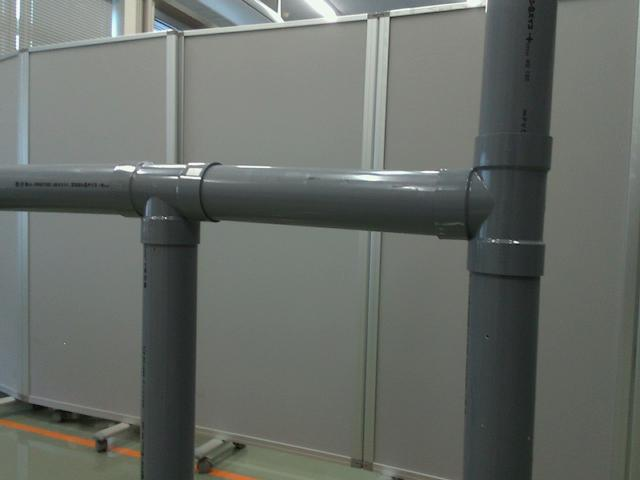junction: (432, 135, 556, 269), (115, 160, 219, 244)
